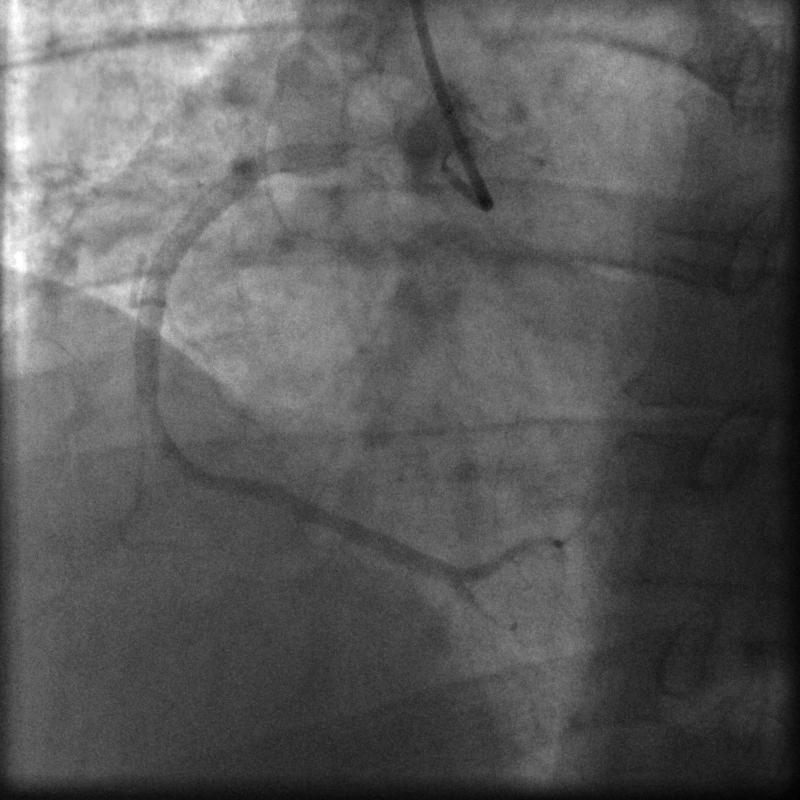Stenosis: (135, 376, 168, 448)
